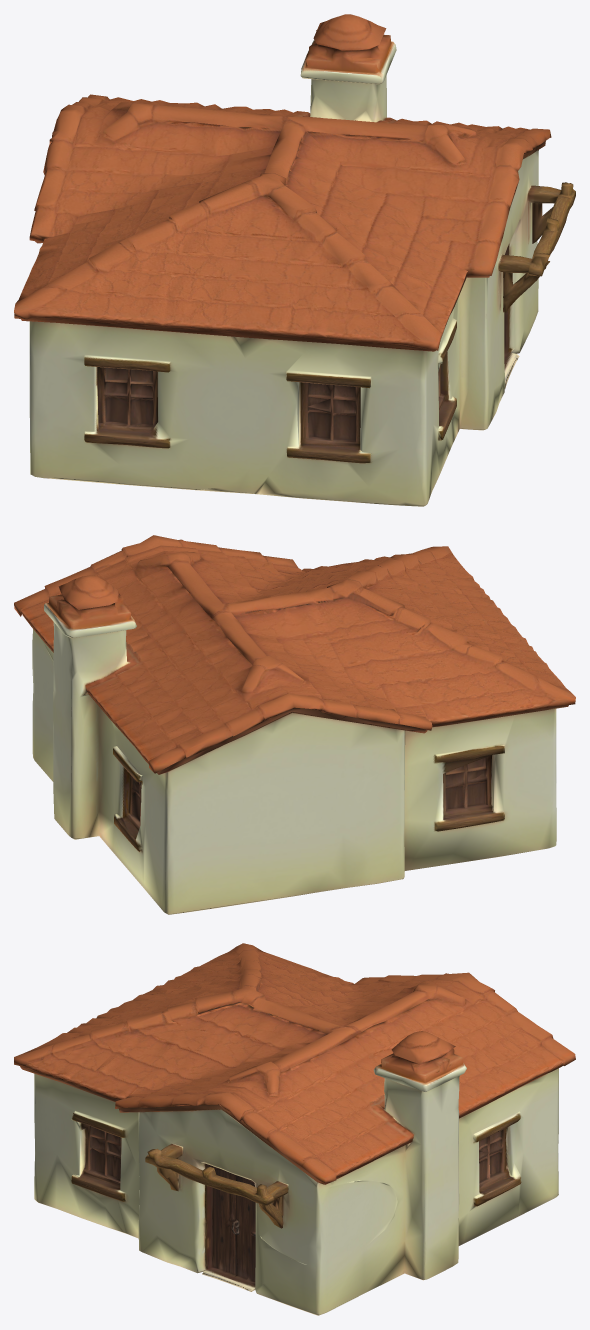
The model's file is cottage.glb.
3 renders of one model, top to bottom at view 1: azimuth 30°, elevation 25°; view 2: azimuth 150°, elevation 25°; view 3: azimuth 270°, elevation 25°, orthographic. The views are drawn at different scales.
Visible parts, largest first — view 1: tripo_node_e1323e96-3d5e-4d46-825a-071cfafa92db; view 2: tripo_node_e1323e96-3d5e-4d46-825a-071cfafa92db; view 3: tripo_node_e1323e96-3d5e-4d46-825a-071cfafa92db.
Boxes of the visible parts, bbox=[...] form: tripo_node_e1323e96-3d5e-4d46-825a-071cfafa92db: bbox=[14, 14, 575, 506]; tripo_node_e1323e96-3d5e-4d46-825a-071cfafa92db: bbox=[14, 535, 575, 914]; tripo_node_e1323e96-3d5e-4d46-825a-071cfafa92db: bbox=[14, 943, 575, 1315].
Size of the model in its own units: 5.46 by 2.5 by 5.48.
Materials: 1 (1 with a texture image).
